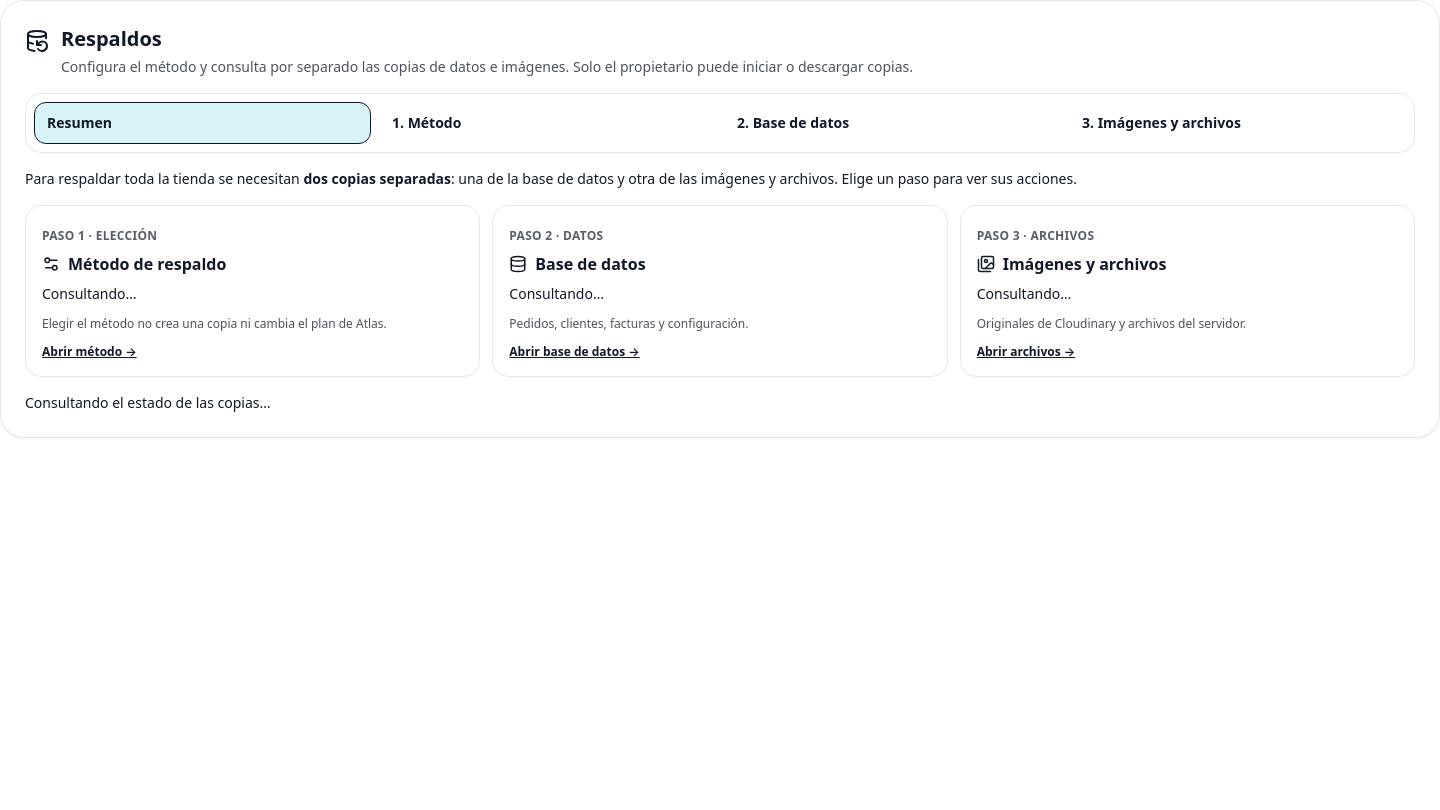
Test: preferencia de respaldos › inicia la pausa desde el panel con contraseña y TOTP del propietario
The image size is (1440, 810).
Click the tab "2. Base de datos". click: click(793, 122)
box: [724,102,1061,144]
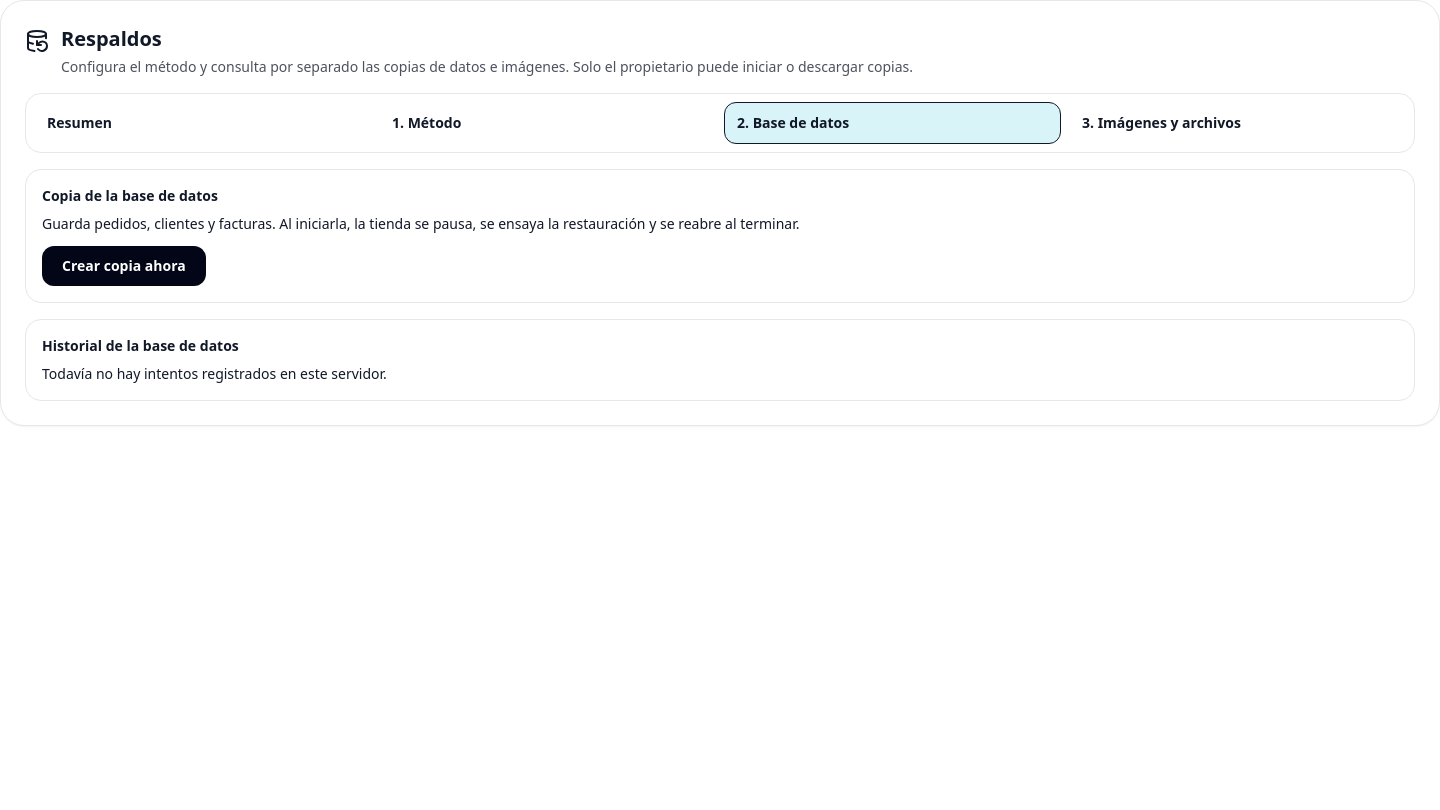
Click the button "Crear copia ahora". click: click(124, 266)
box: [42,246,206,286]
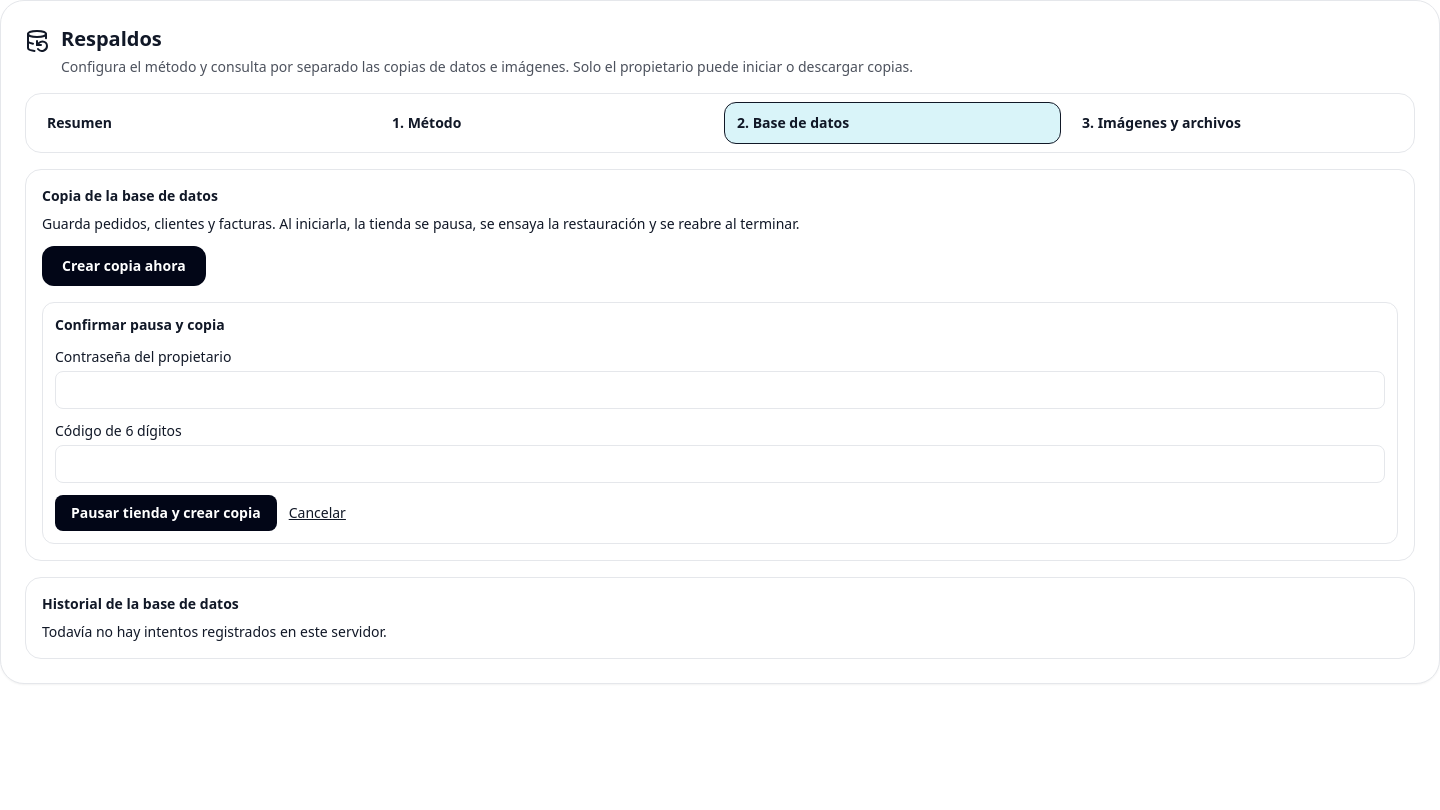
Type "contraseña-segura" into the password field labelled "Contraseña del propietario". click: (720, 390)
box: [55,371,1385,409]
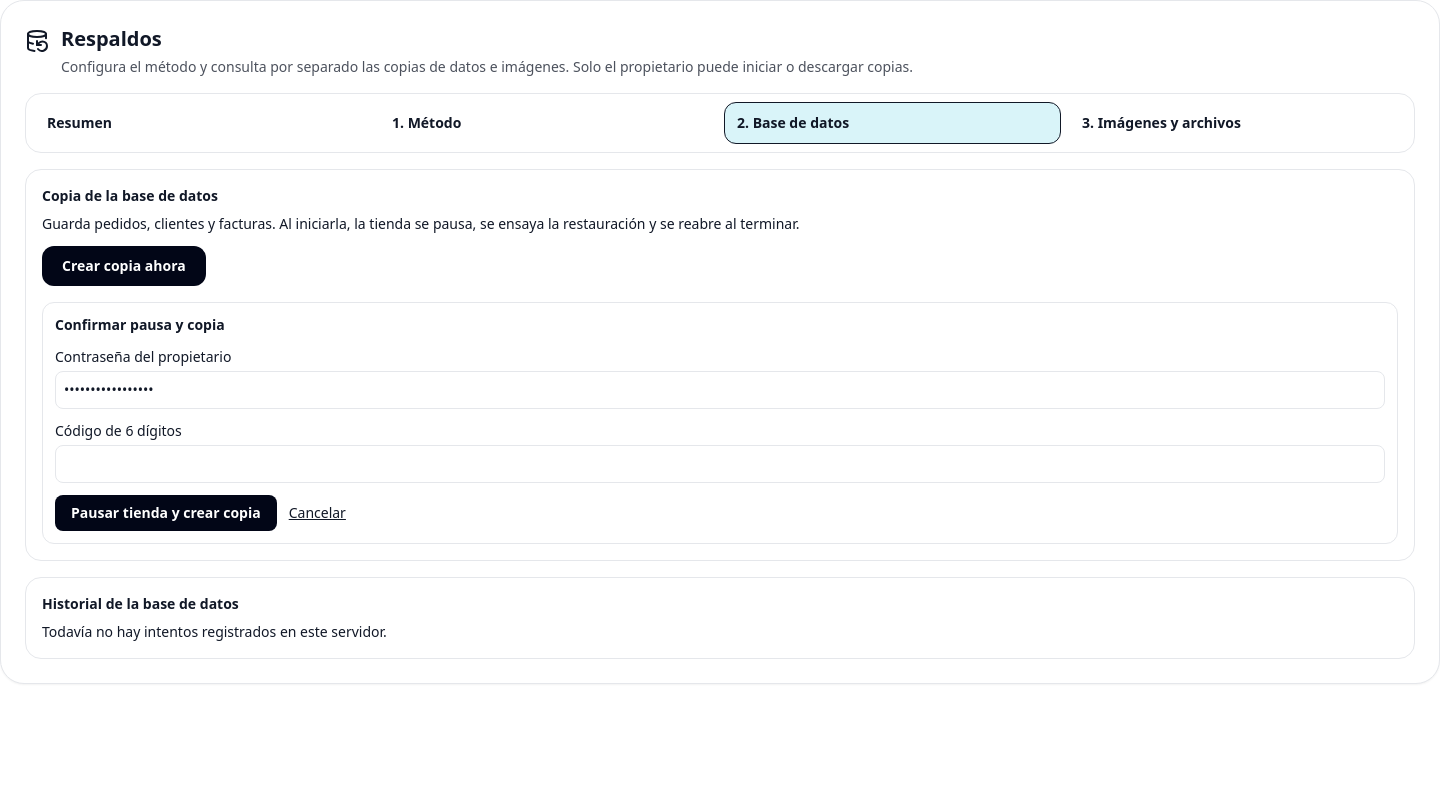
Type "123456" into the field labelled "Código de 6 dígitos". click: (720, 464)
box: [55,445,1385,483]
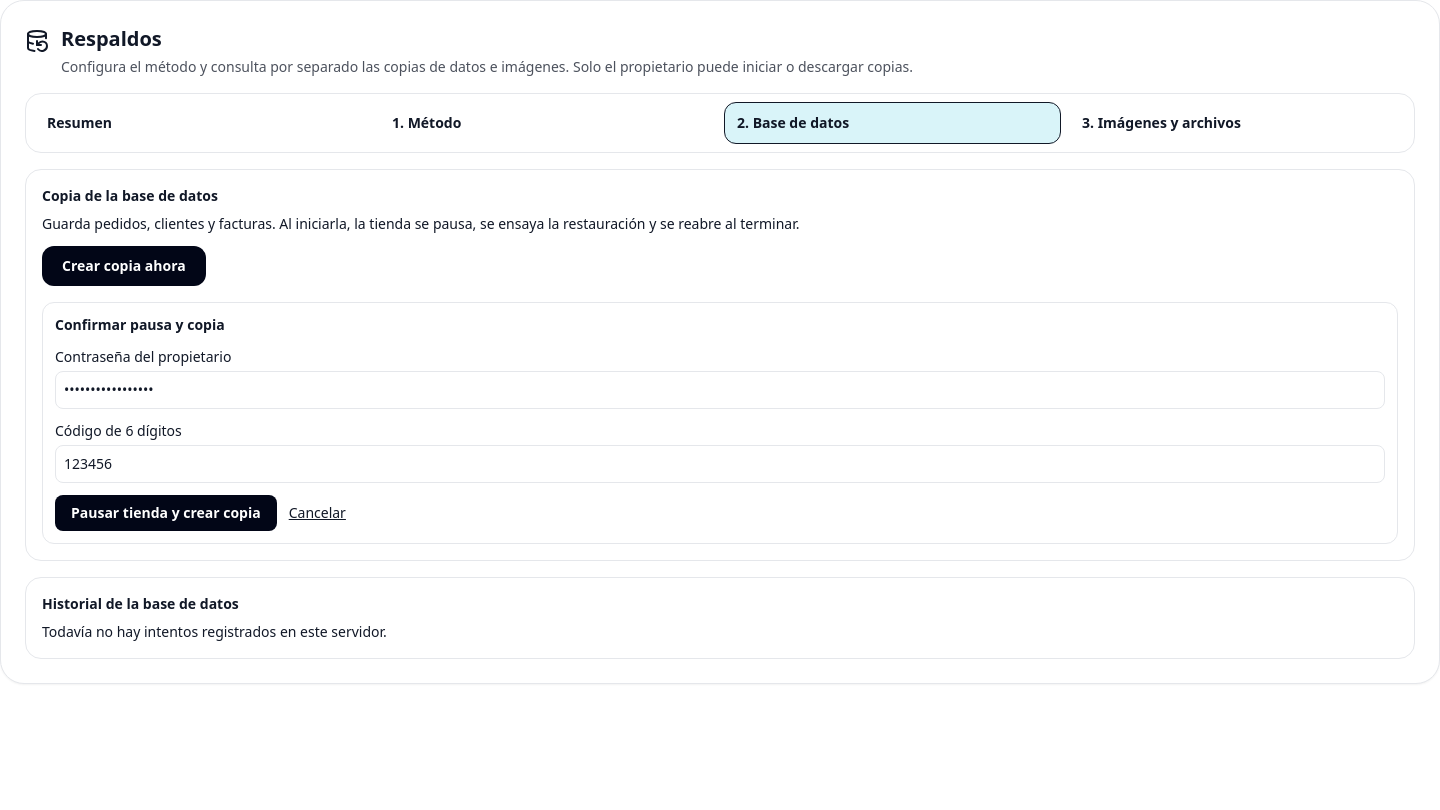
Click the button "Pausar tienda y crear copia". click: click(166, 513)
box: [55,495,277,531]
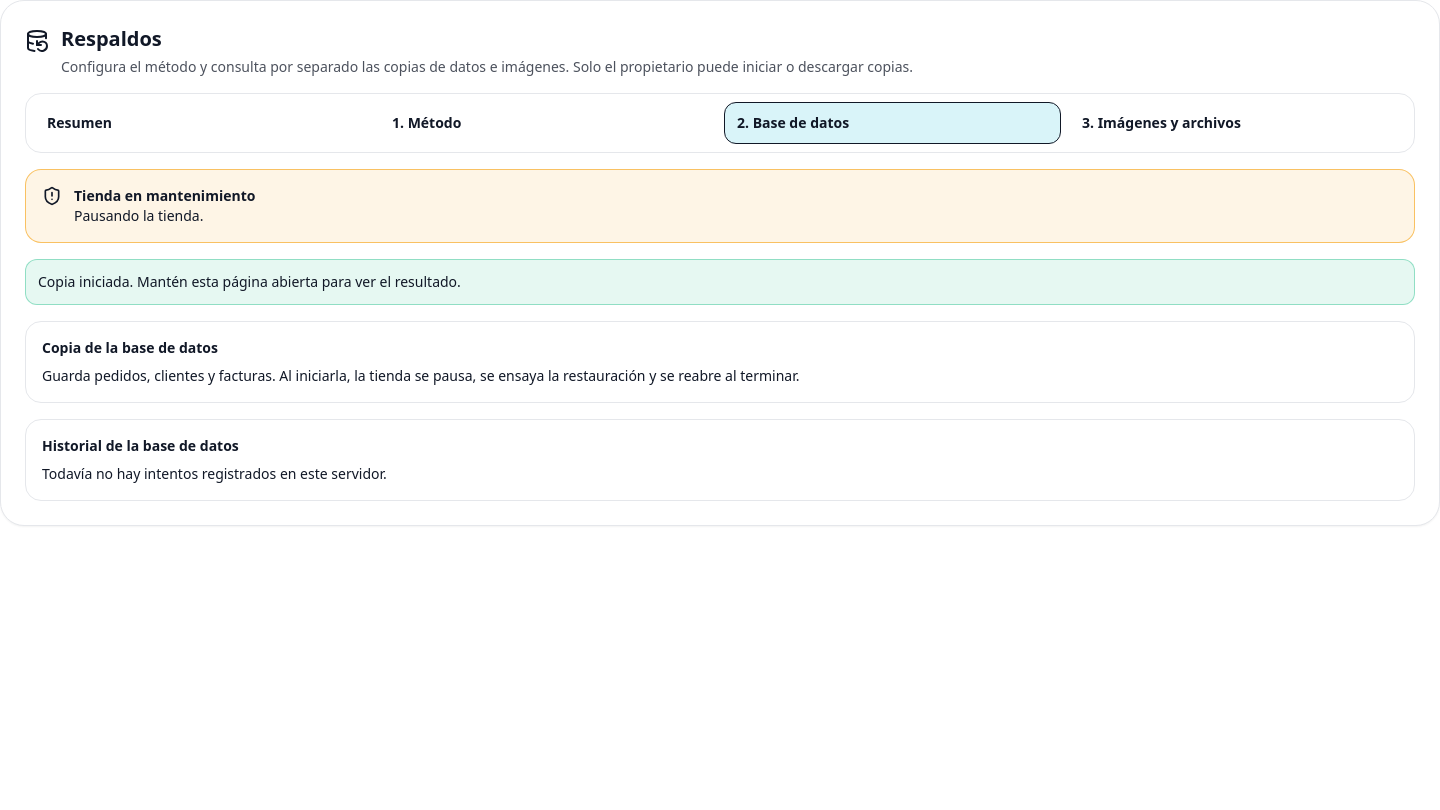
Expected: the text "Tienda en mantenimiento" is shown, [74,186,255,205]
